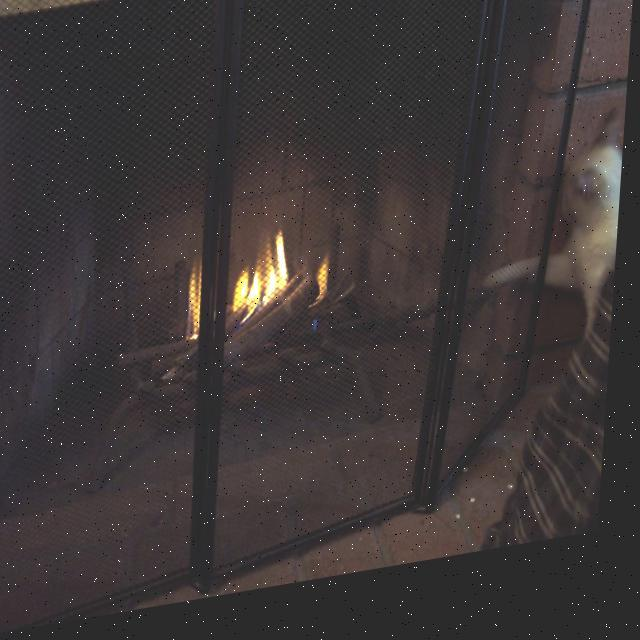Fire: (182, 221, 345, 352)
